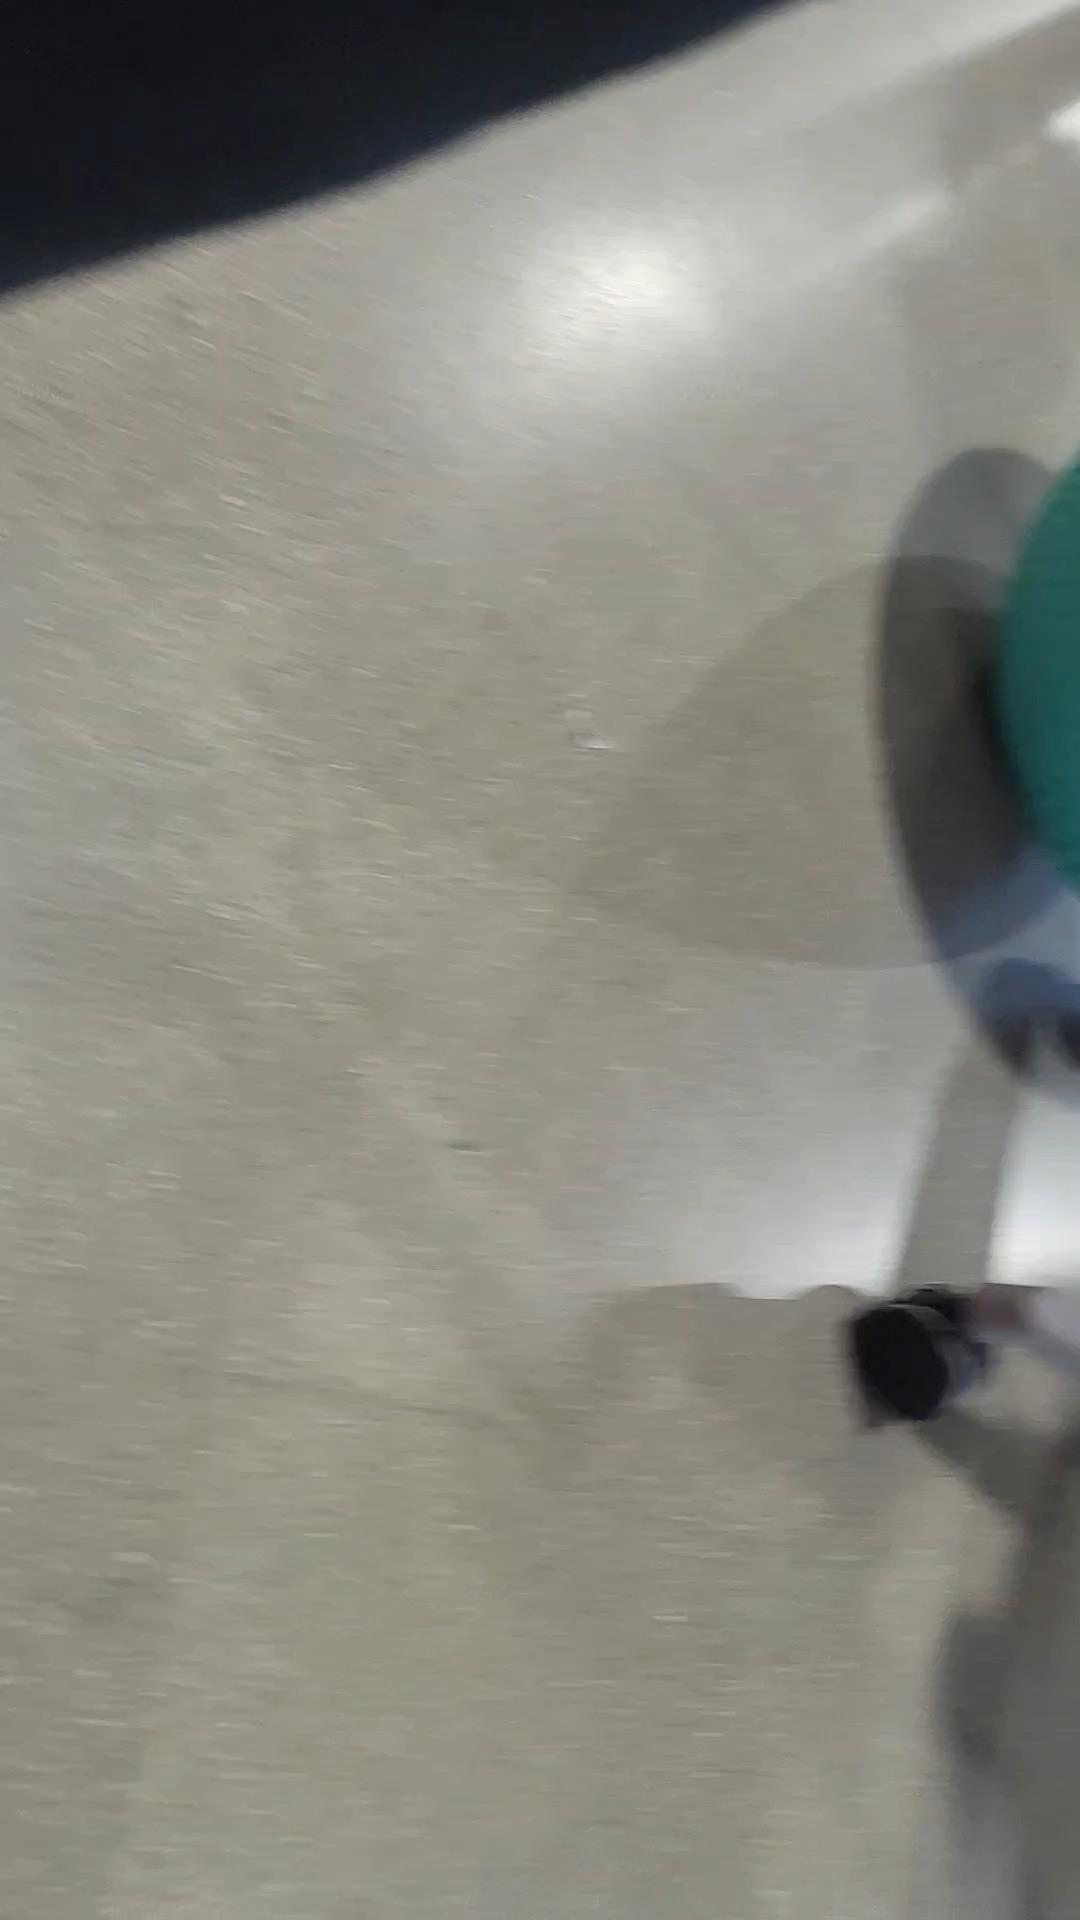algae: (1000, 423, 1080, 910)
